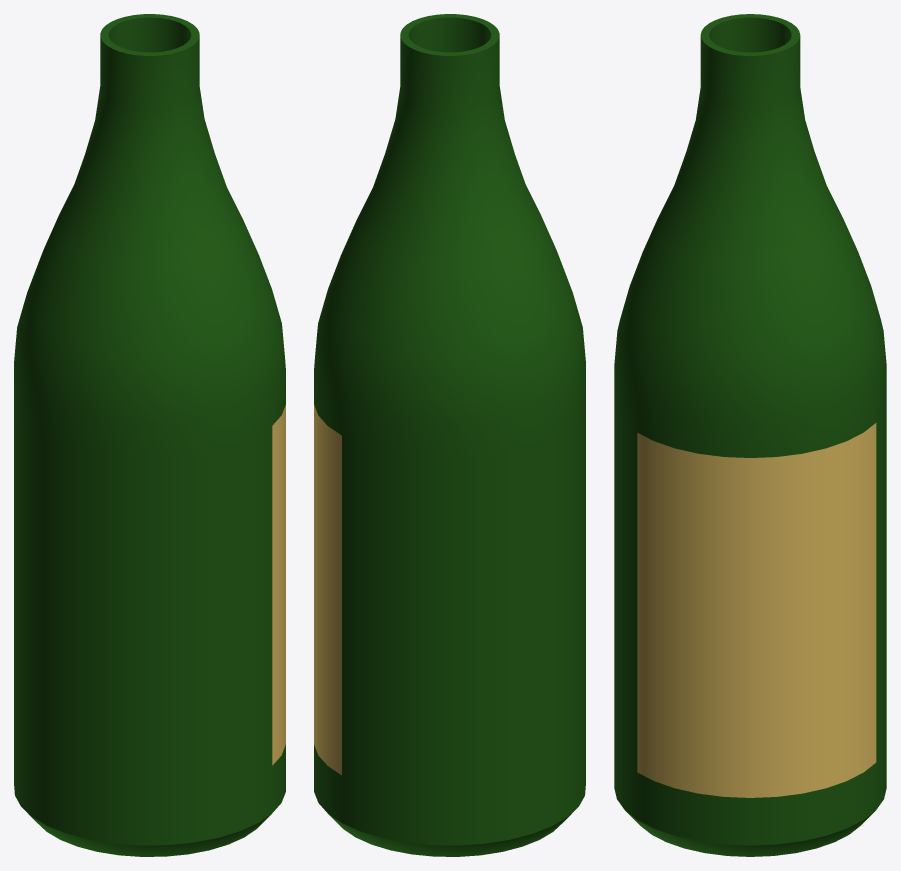
Rendered from flasche.fbx.
3 views of the same model, side by side, from view 1: azimuth 30°, elevation 25°; view 2: azimuth 150°, elevation 25°; view 3: azimuth 270°, elevation 25° (orthographic).
Parts seen in each view (by area): view 1: Cylinder; view 2: Cylinder; view 3: Cylinder.
Boxes of the visible parts, x1=… form: Cylinder: x1=14, y1=14, x2=285, y2=856; Cylinder: x1=314, y1=14, x2=585, y2=856; Cylinder: x1=614, y1=14, x2=886, y2=856.
Bounding box in the file's own units: 8 × 25 × 8.
